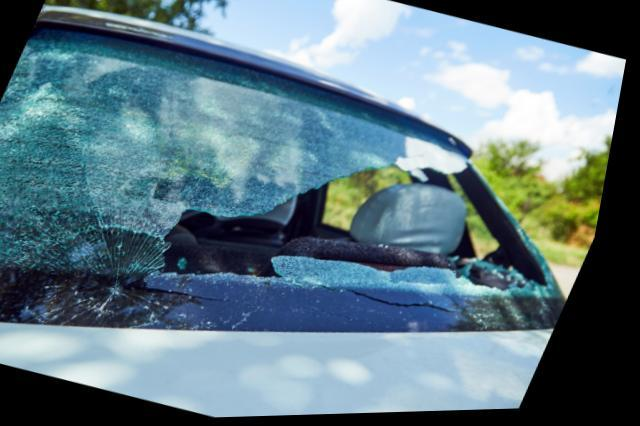glass shatter: (0, 25, 579, 336)
